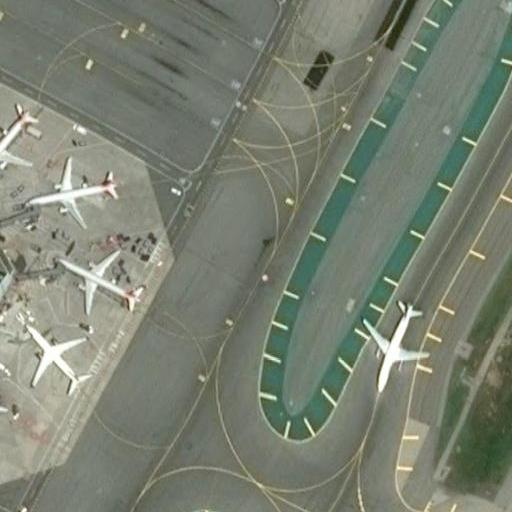Aircraft: (23, 154, 117, 231), (359, 296, 429, 390), (57, 246, 145, 317), (21, 323, 90, 398), (0, 101, 36, 186), (0, 377, 6, 444)
